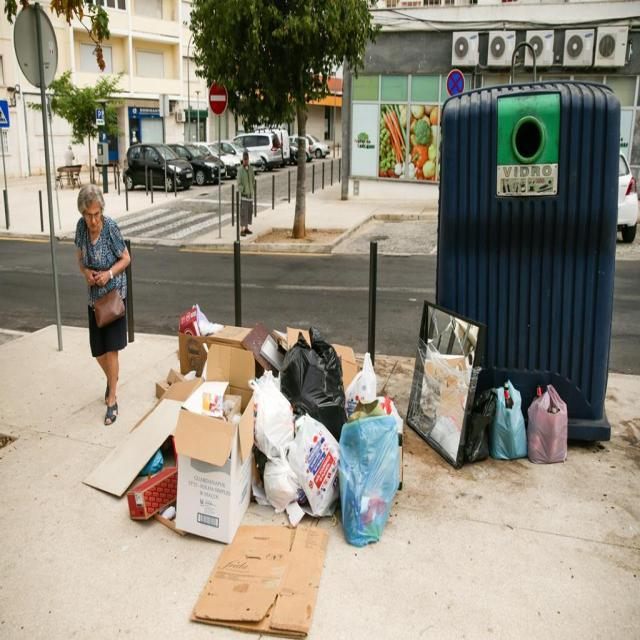garbage: (126, 309, 596, 640)
